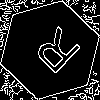R: (25, 25, 84, 83)
